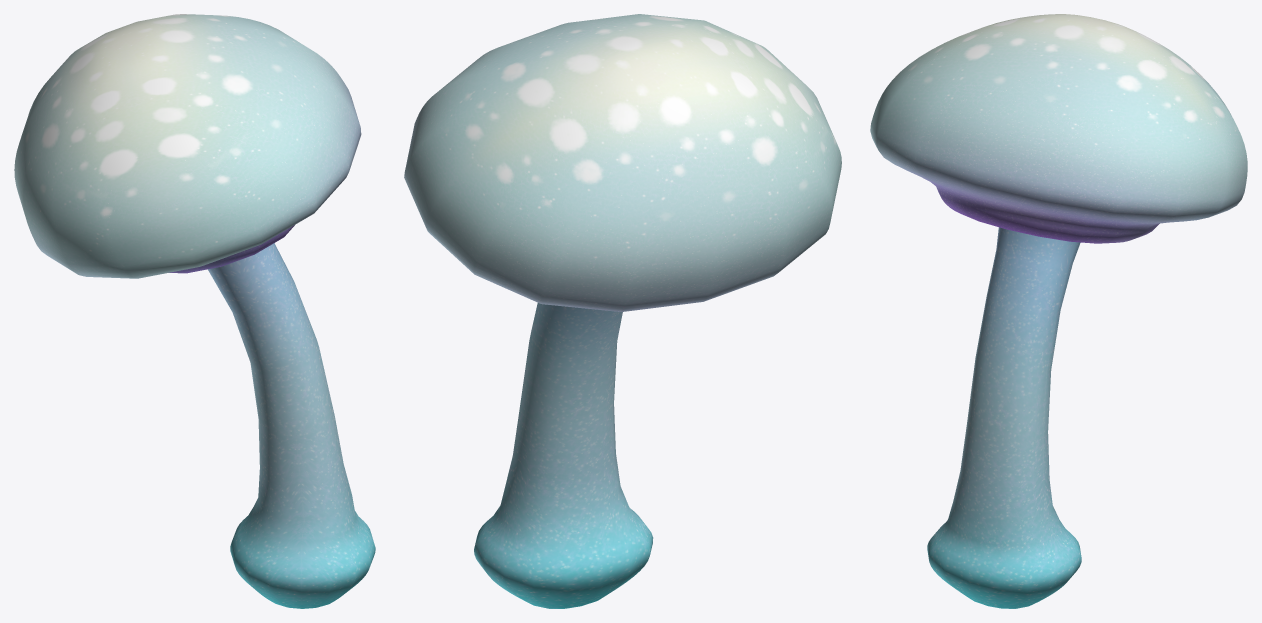
The model's file is bendymashwoom.fbx.
3 views of the same model, side by side, from view 1: azimuth 30°, elevation 25°; view 2: azimuth 150°, elevation 25°; view 3: azimuth 270°, elevation 25° (orthographic). The views are drawn at different scales.
Parts seen in each view (by area): view 1: pasted__pasted__mushroom; view 2: pasted__pasted__mushroom; view 3: pasted__pasted__mushroom.
Boxes of the visible parts, <box> form: pasted__pasted__mushroom: <box>14,14,375,608</box>; pasted__pasted__mushroom: <box>404,14,841,608</box>; pasted__pasted__mushroom: <box>870,14,1247,608</box>.
Bounding box in the file's own units: 4.68 × 7.68 × 5.02.
